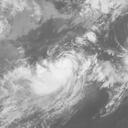cyclone: (27, 54, 81, 98)
